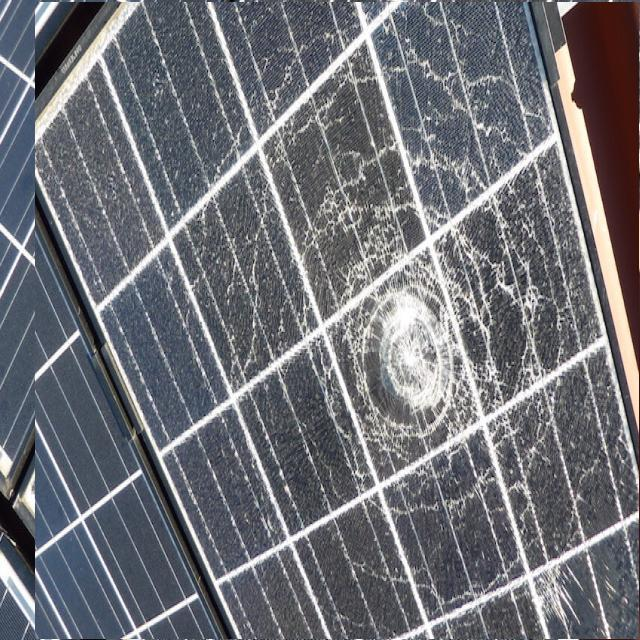Physical-damage: (35, 2, 639, 640)
